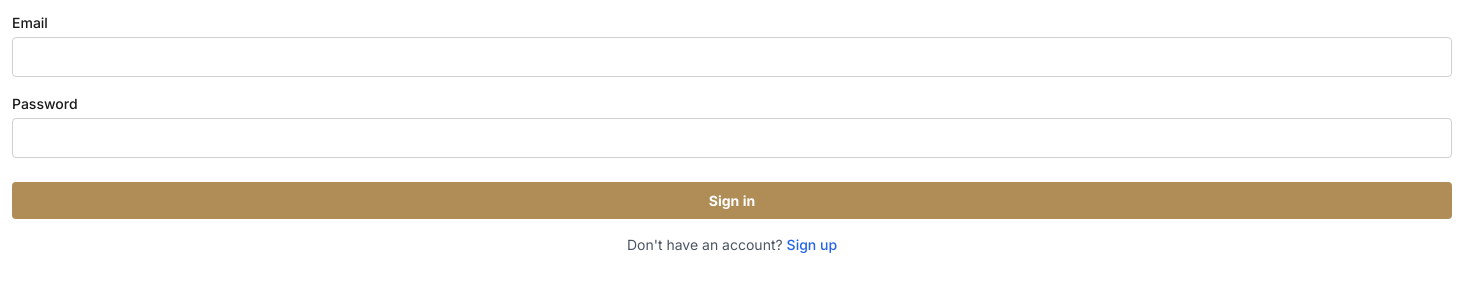
LoginForm › clears email error when valid email is entered
In the field labelled "Email": (732, 57) top-left (12, 37), bottom-right (1452, 77), type "invalid"
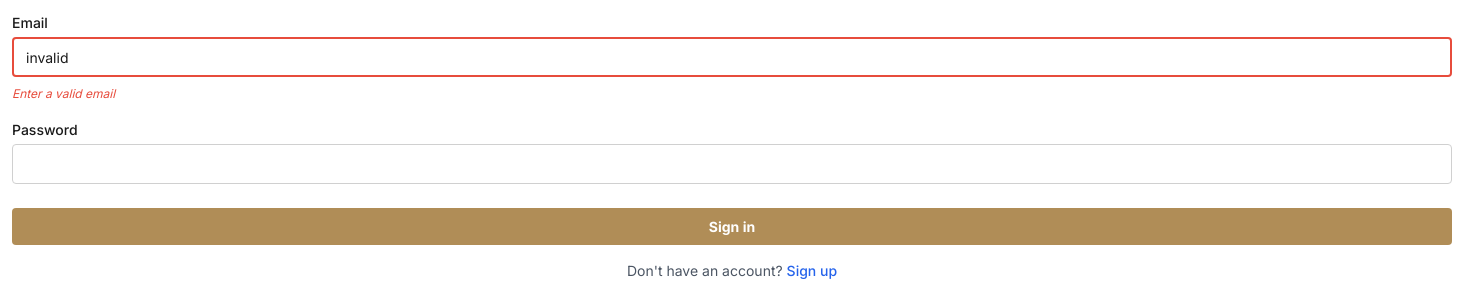
Result: the text "Enter a valid email" is shown at top-left (12, 86), bottom-right (115, 101)
Replace the text in the field labelled "Email" with "user@example.com": (732, 57) top-left (12, 37), bottom-right (1452, 77)
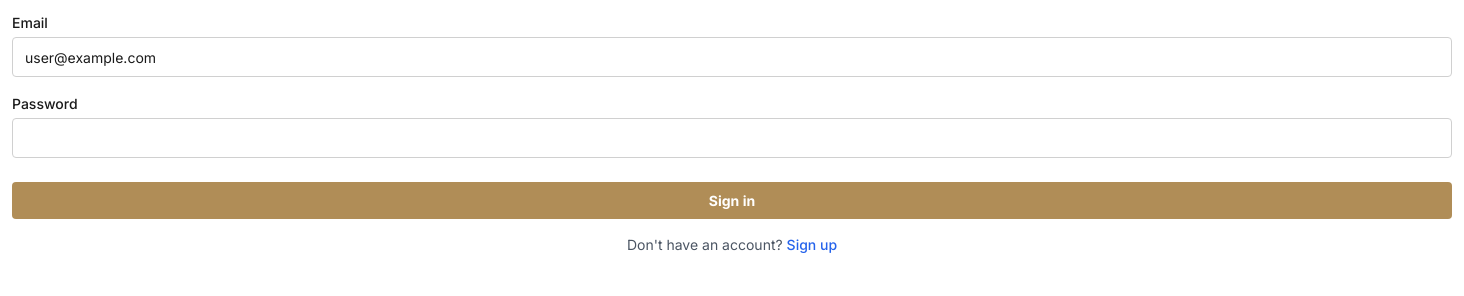
Result: the text "Enter a valid email" is gone
